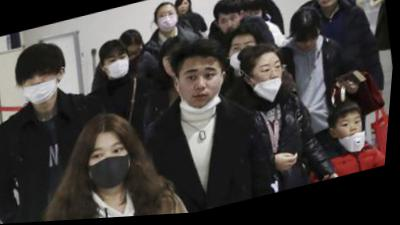NONE: (217, 13, 243, 40), (295, 35, 323, 58), (313, 1, 345, 14), (177, 2, 192, 19), (235, 1, 252, 3)
OK: (82, 135, 142, 196), (225, 38, 264, 78), (103, 50, 134, 84), (156, 9, 181, 36)
WRONG: (174, 60, 230, 118), (19, 61, 66, 111), (250, 60, 289, 102), (337, 118, 369, 151)
